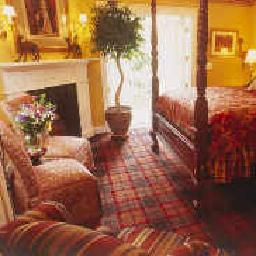Cama: (154, 84, 254, 175)
Matera: (88, 7, 145, 140)
